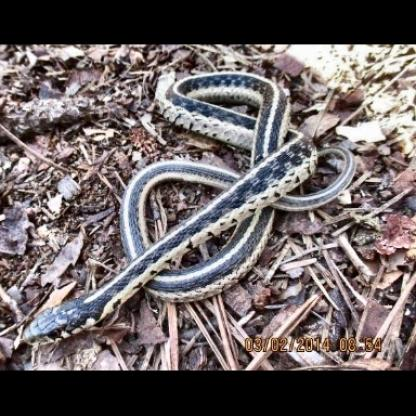Snake: (20, 71, 360, 356)
